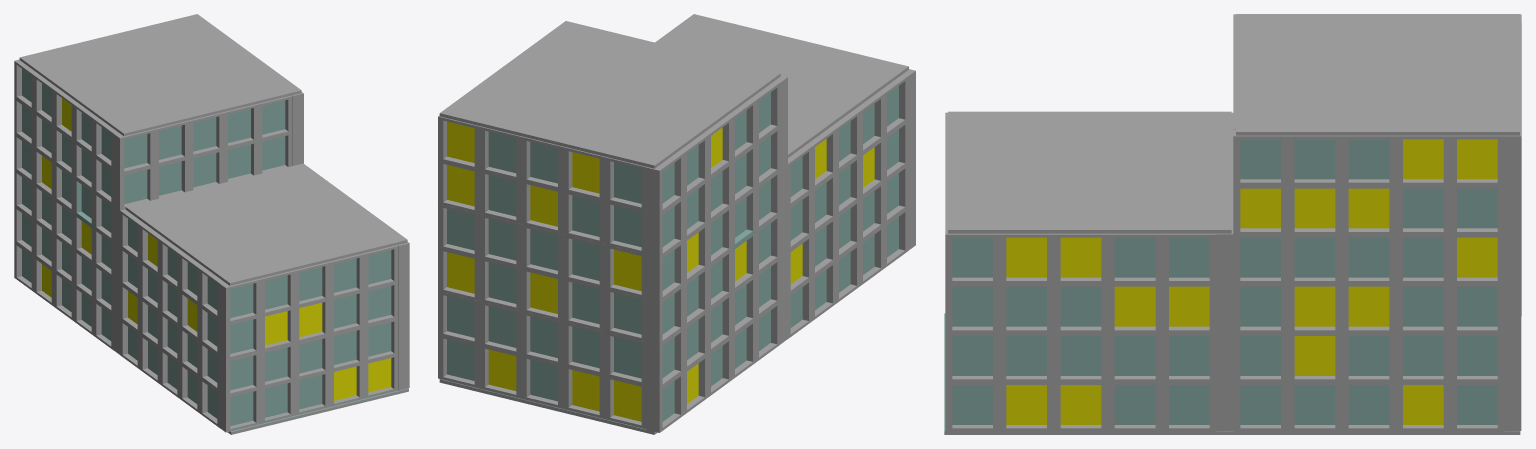
Rendered from Apartment windows.fbx.
3 views of the same model, side by side, from view 1: azimuth 30°, elevation 25°; view 2: azimuth 150°, elevation 25°; view 3: azimuth 270°, elevation 25° (orthographic). The views are drawn at different scales.
Parts seen in each view (by area): view 1: pCube992; view 2: pCube992; view 3: pCube992.
Boxes of the visible parts, <box> form: pCube992: <box>14,14,409,434</box>; pCube992: <box>438,14,915,434</box>; pCube992: <box>944,14,1521,434</box>.
Bounding box in the file's own units: 639 × 740 × 1278.
